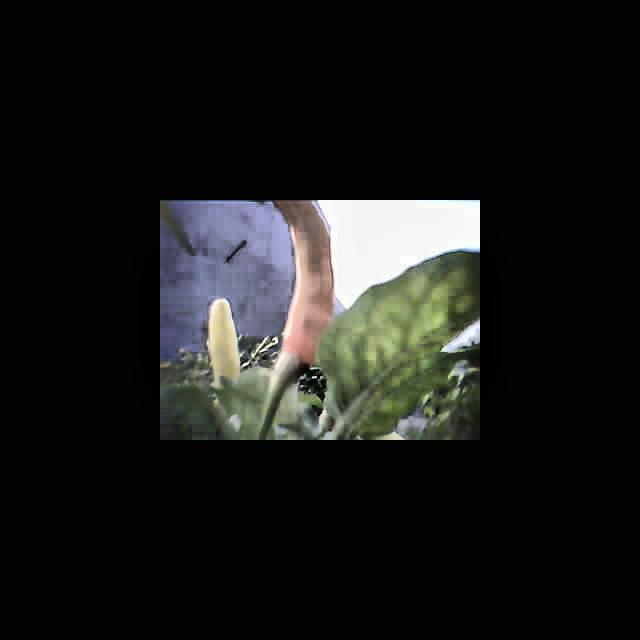Cabai: (277, 200, 341, 369)
